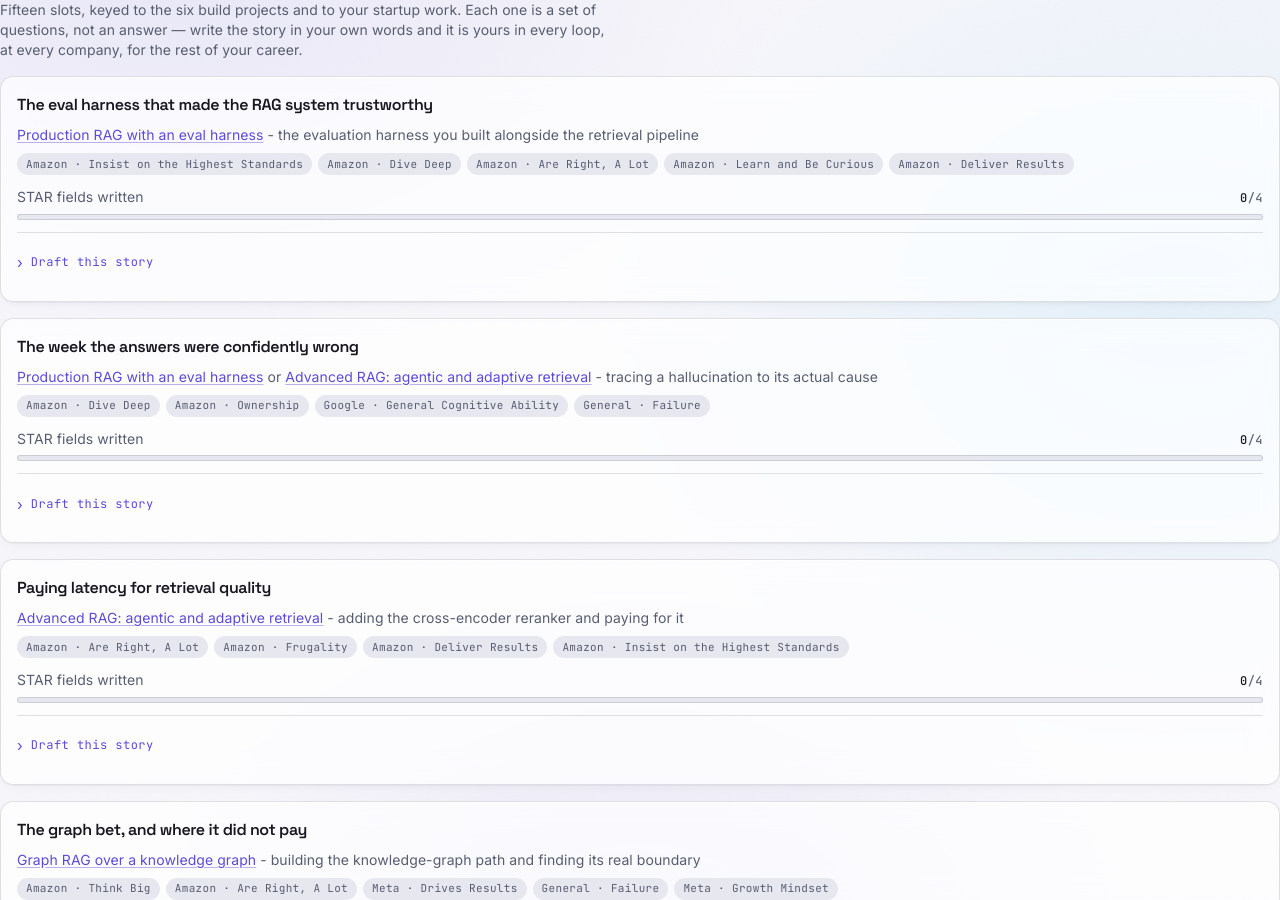
story drafts › renders all 15 slots with their four STAR prompts behind a reveal
Click the 1st button "› Draft this story" at (92, 262), box [17,241,1263,285]
(page scrolled)
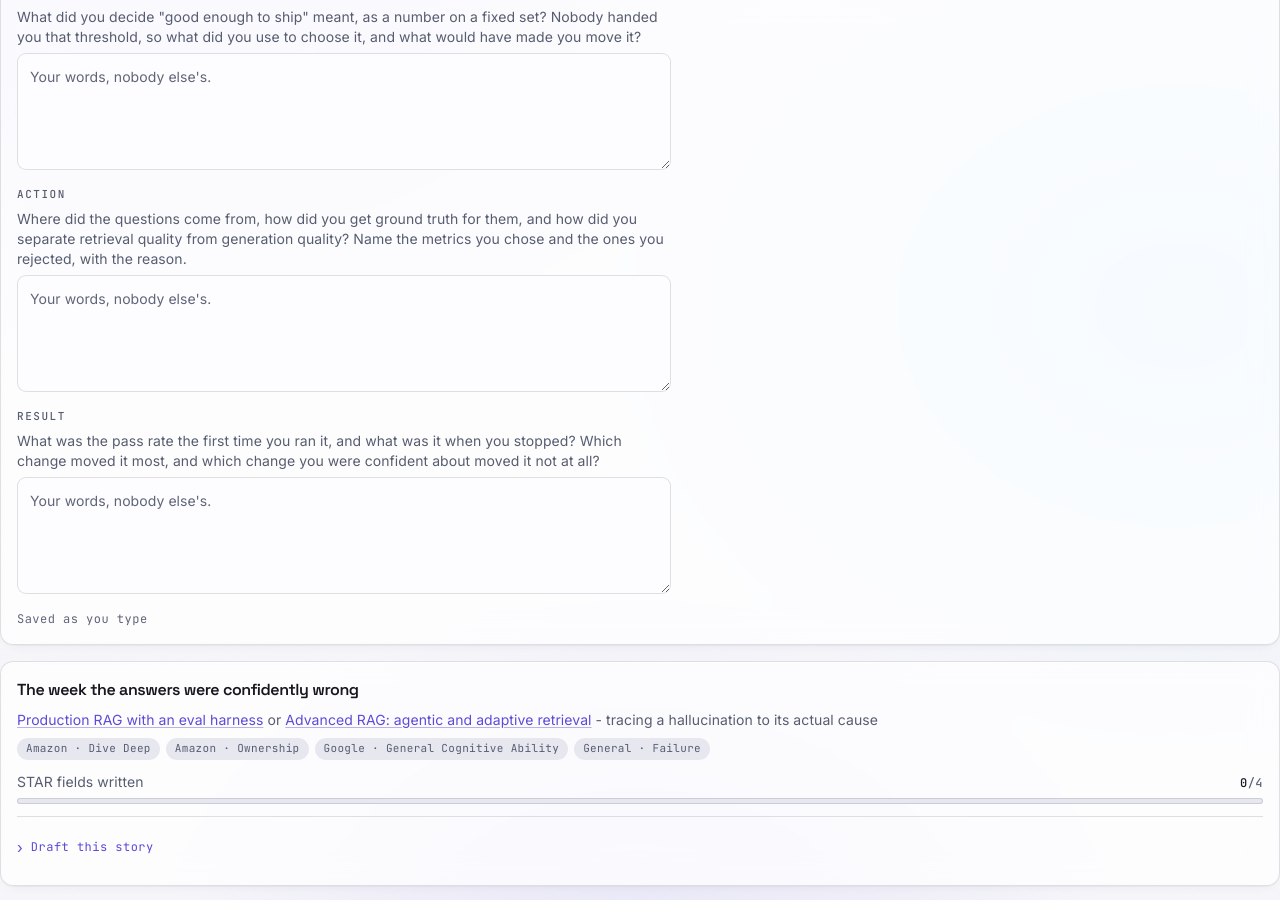
expect the text "What did you decide \"good enough to ship\" meant, as a number on a fixed set? Nobody handed you that threshold, so what d" is shown: met, box [17,8,658,45]
expect the text "Where did the questions come from, how did you get ground truth for them, and how did you separate retrieval quality fro" is shown: met, box [17,210,664,267]
expect the text "What was the pass rate the first time you ran it, and what was it when you stopped? Which change moved it most, and whic" is shown: met, box [17,432,622,469]
